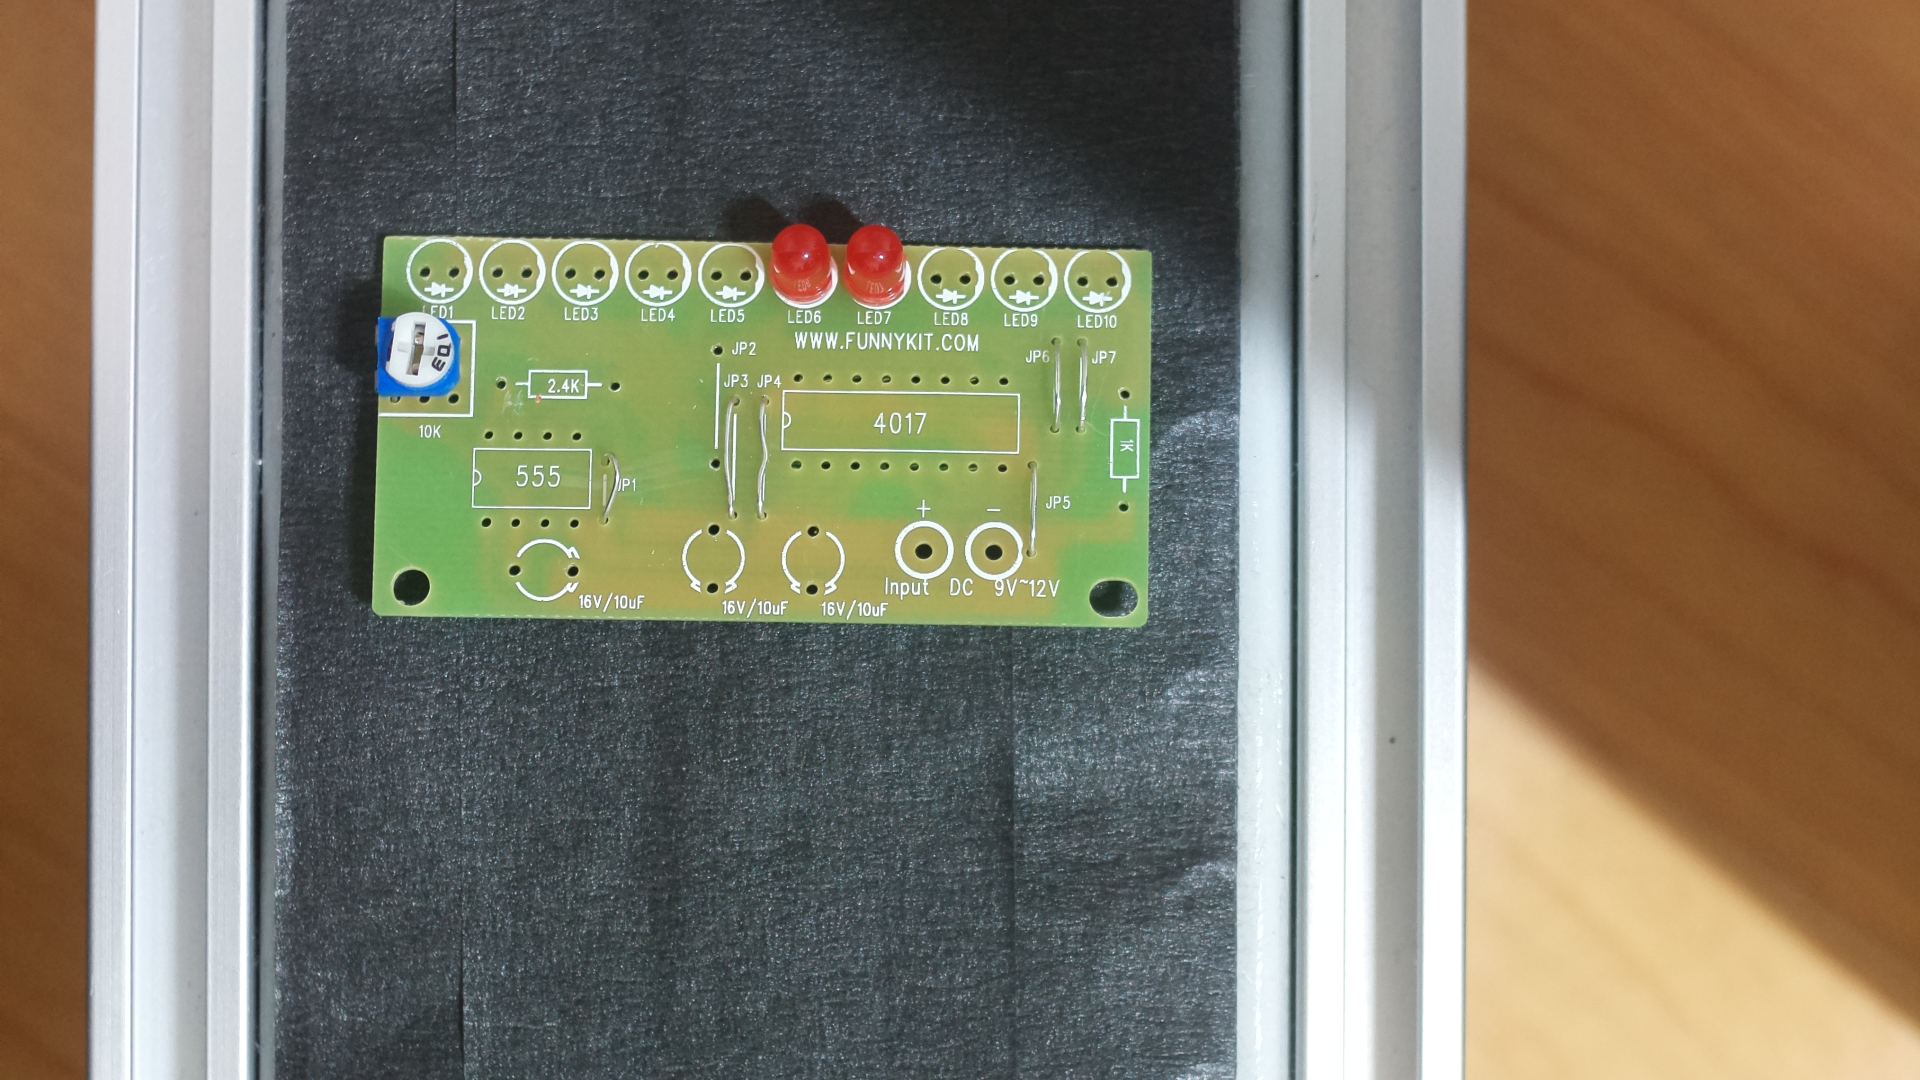B_Missing_part: (371, 222, 1163, 630)
